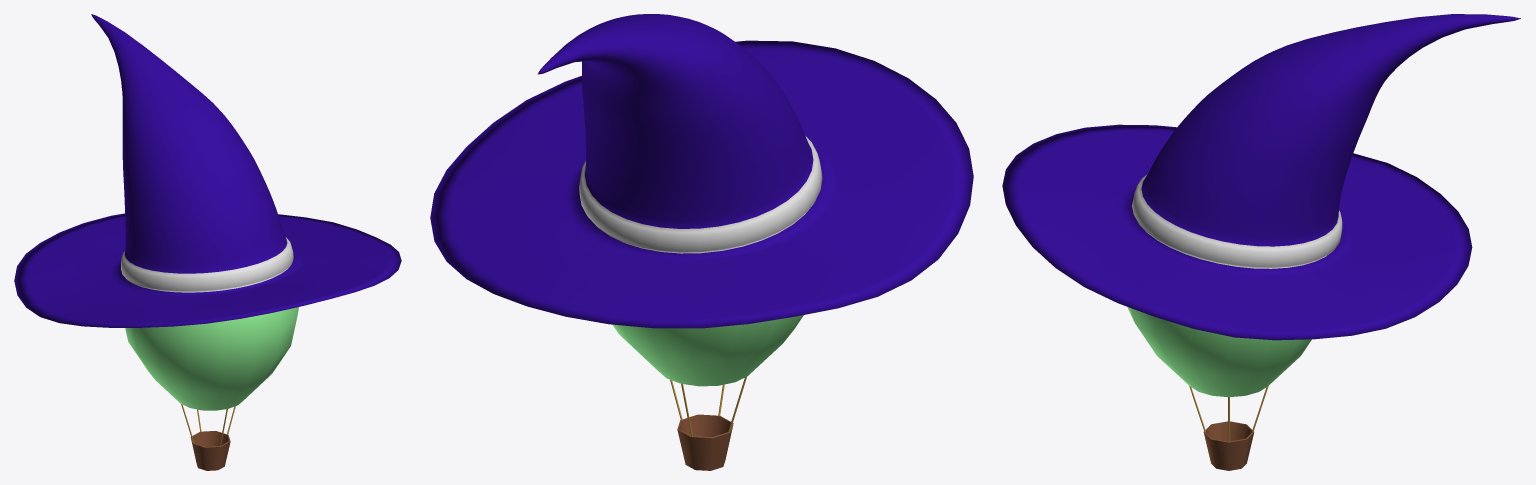
Rendered from Lv3_FB_Magician.FBX.
3 renders of one model, left to right at view 1: azimuth 30°, elevation 25°; view 2: azimuth 150°, elevation 25°; view 3: azimuth 270°, elevation 25°, orthographic. The views are drawn at different scales.
Parts seen in each view (by area): view 1: Cylinder002, Sphere001, Cylinder001; view 2: Cylinder002, Sphere001, Cylinder001; view 3: Cylinder002, Sphere001, Cylinder001.
Boxes of the visible parts, <box> form: Cylinder002: <box>14,14,401,327</box>; Sphere001: <box>125,307,298,410</box>; Cylinder001: <box>190,431,230,470</box>; Cylinder002: <box>430,14,973,328</box>; Sphere001: <box>613,315,803,386</box>; Cylinder001: <box>677,414,733,470</box>; Cylinder002: <box>1002,14,1520,340</box>; Sphere001: <box>1127,307,1311,397</box>; Cylinder001: <box>1203,421,1254,470</box>.
Size of the model in its own units: 280 by 292 by 306.
